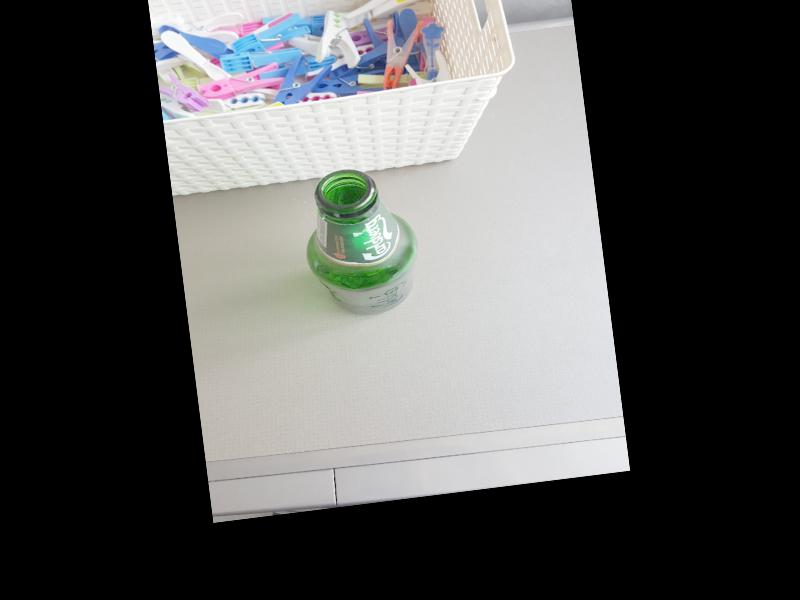Beer: (297, 162, 426, 322)
